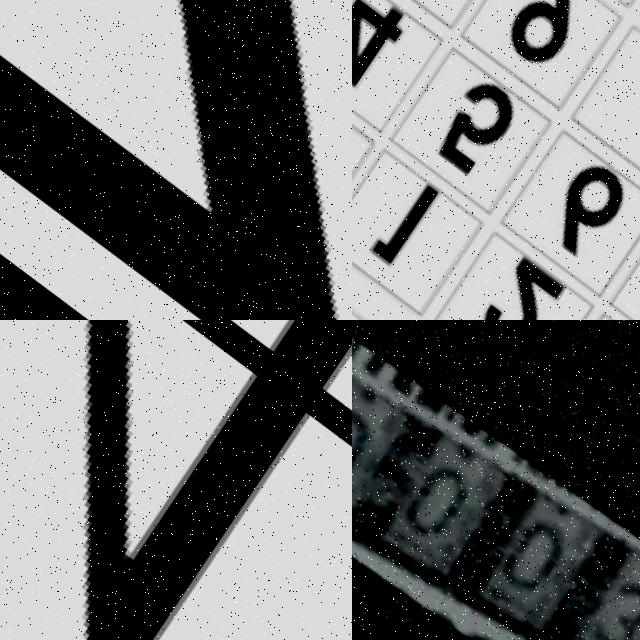0: (473, 496, 574, 609), (379, 443, 480, 555), (352, 385, 379, 497)
1: (354, 164, 447, 278)
2: (454, 240, 570, 320)
3: (562, 553, 640, 640)
4: (352, 0, 416, 104)
5: (416, 60, 528, 188)
6: (528, 143, 635, 266)
9: (490, 0, 600, 77)
Z: (0, 0, 352, 320)
